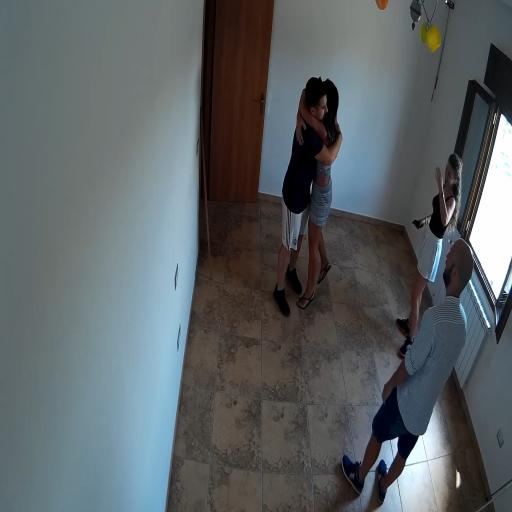nao-violencia: (263, 62, 351, 334)
